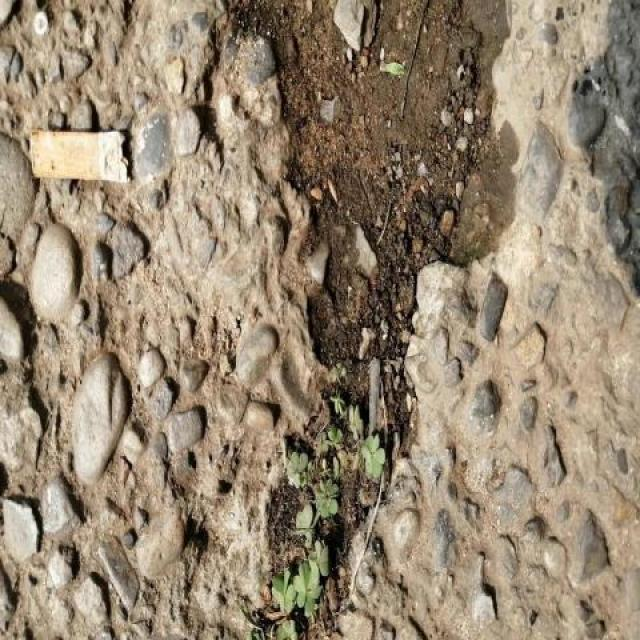non-organic waste: (23, 124, 137, 187)
